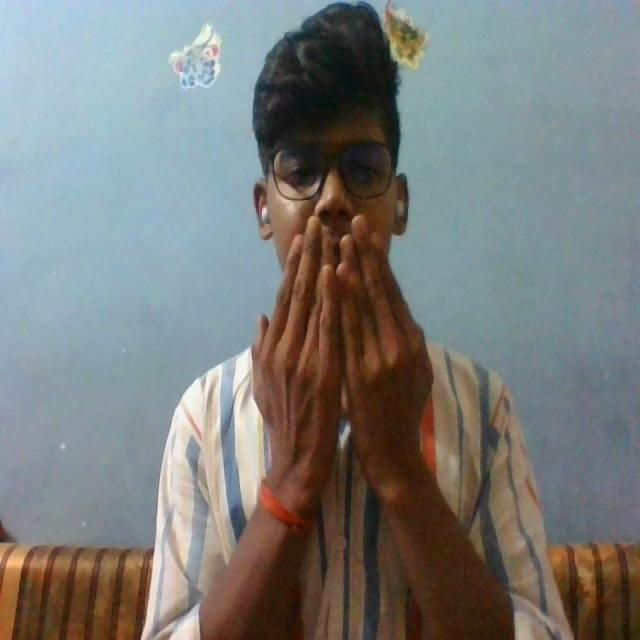Thanks: (209, 202, 451, 525)
